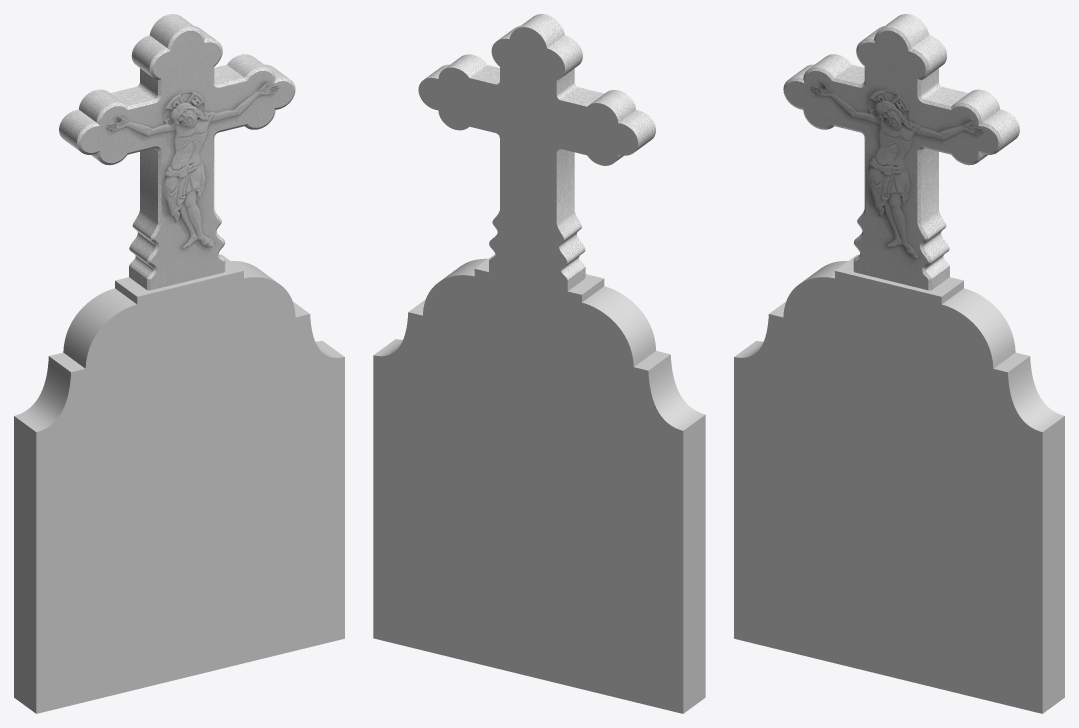
The model's file is cne2fe625b78_tkf.glb.
The picture shows the model from 3 angles, left to right: view 1: azimuth 30°, elevation 25°; view 2: azimuth 150°, elevation 25°; view 3: azimuth 330°, elevation 25°; orthographic projection.
Visible parts, largest first — view 1: Pam-d01-084, Pam-d01-084_2_notexture; view 2: Pam-d01-084, Pam-d01-084_2_notexture; view 3: Pam-d01-084, Pam-d01-084_2_notexture.
Part boxes in pixels (x1,y1,x2,y2): Pam-d01-084: (14, 254, 344, 713); Pam-d01-084_2_notexture: (59, 14, 295, 290); Pam-d01-084: (373, 27, 705, 713); Pam-d01-084_2_notexture: (424, 14, 655, 290); Pam-d01-084: (734, 254, 1064, 713); Pam-d01-084_2_notexture: (783, 14, 1019, 290).
Bounding box in the file's own units: 0.4 × 0.8 × 0.05.
1 material, 1 textured.
